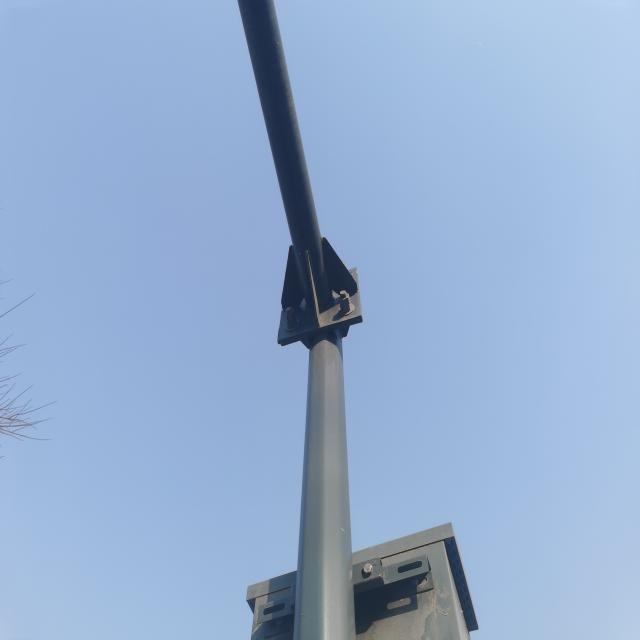bolt head: (363, 562, 373, 576)
bolt nut: (282, 307, 297, 322), (337, 291, 351, 306)
